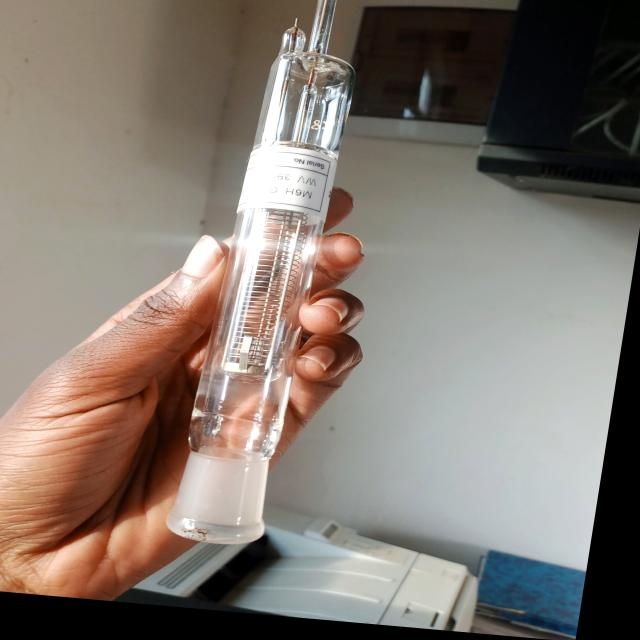Helium Lamp: (175, 0, 365, 546)
